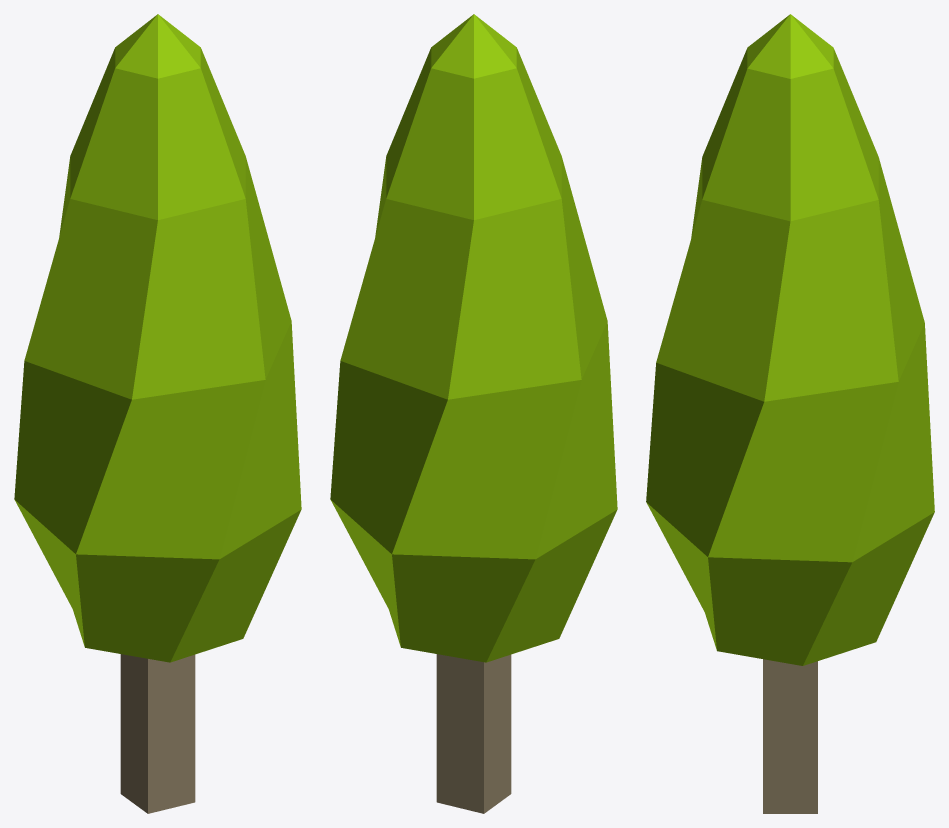
Rendered from tree_cylinder_5.fbx.
3 views of the same model, side by side, from view 1: azimuth 30°, elevation 25°; view 2: azimuth 150°, elevation 25°; view 3: azimuth 270°, elevation 25° (orthographic).
Visible parts, largest first — view 1: tree_cylinder_5; view 2: tree_cylinder_5; view 3: tree_cylinder_5.
Boxes of the visible parts, <box> form: tree_cylinder_5: <box>14,14,301,813</box>; tree_cylinder_5: <box>330,14,617,813</box>; tree_cylinder_5: <box>646,14,934,813</box>.
Bounding box in the file's own units: 62.6 × 194 × 64.56.
